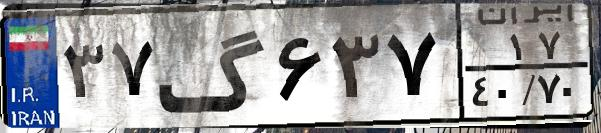0: (560, 70, 590, 125), (495, 70, 520, 125)
1: (508, 27, 537, 80)
3: (330, 28, 385, 110), (57, 26, 110, 100)
4: (470, 70, 495, 125)
6: (270, 28, 330, 110)
7: (385, 28, 445, 110), (110, 28, 156, 98), (537, 27, 568, 80), (535, 70, 560, 125)
گ: (156, 12, 270, 120)
